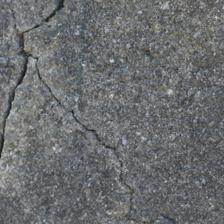Crack: (34, 59, 139, 217), (3, 56, 31, 152), (15, 3, 69, 49)
